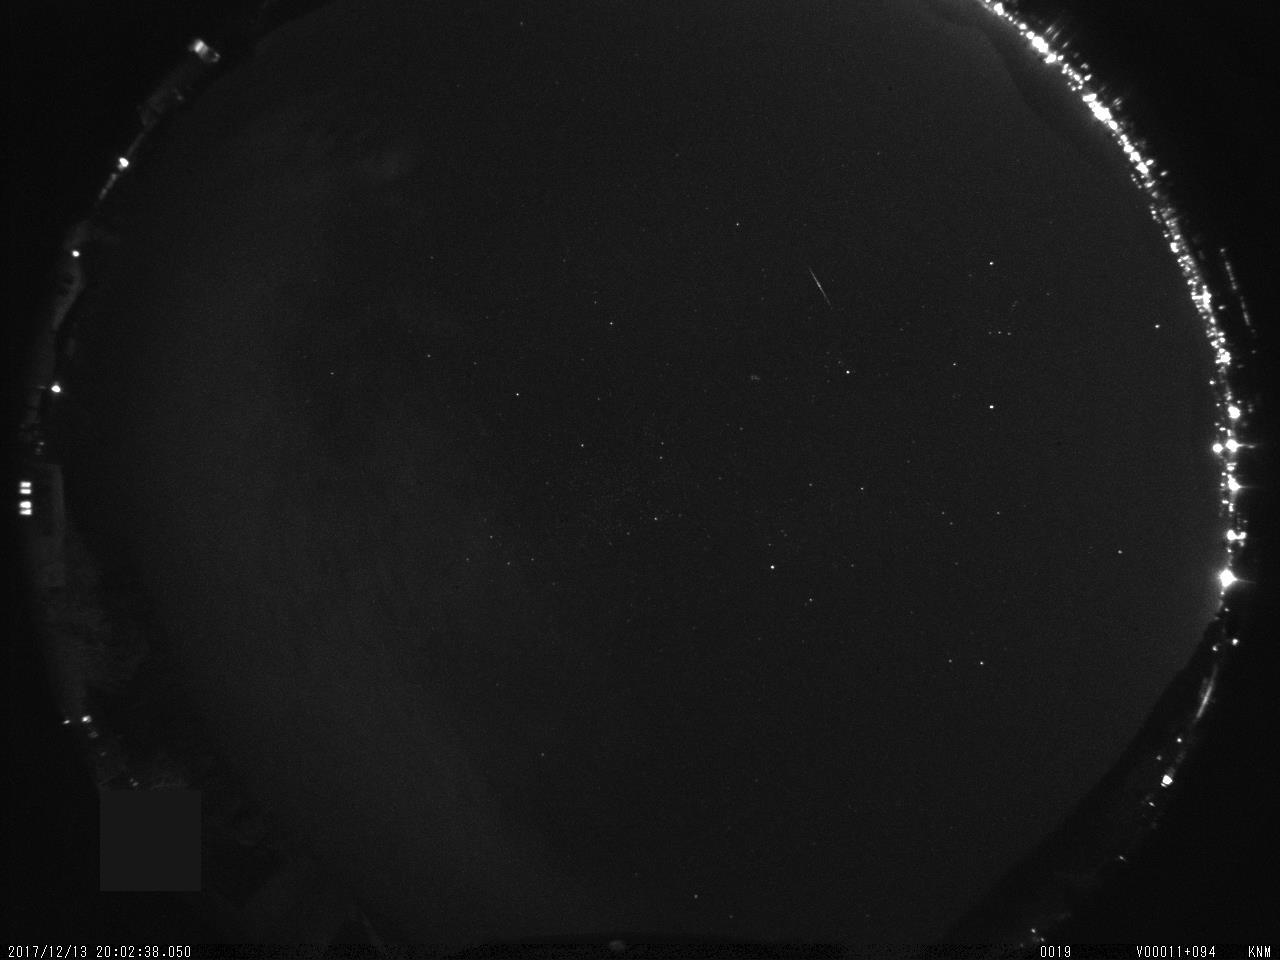meteor: (775, 251, 871, 326)
